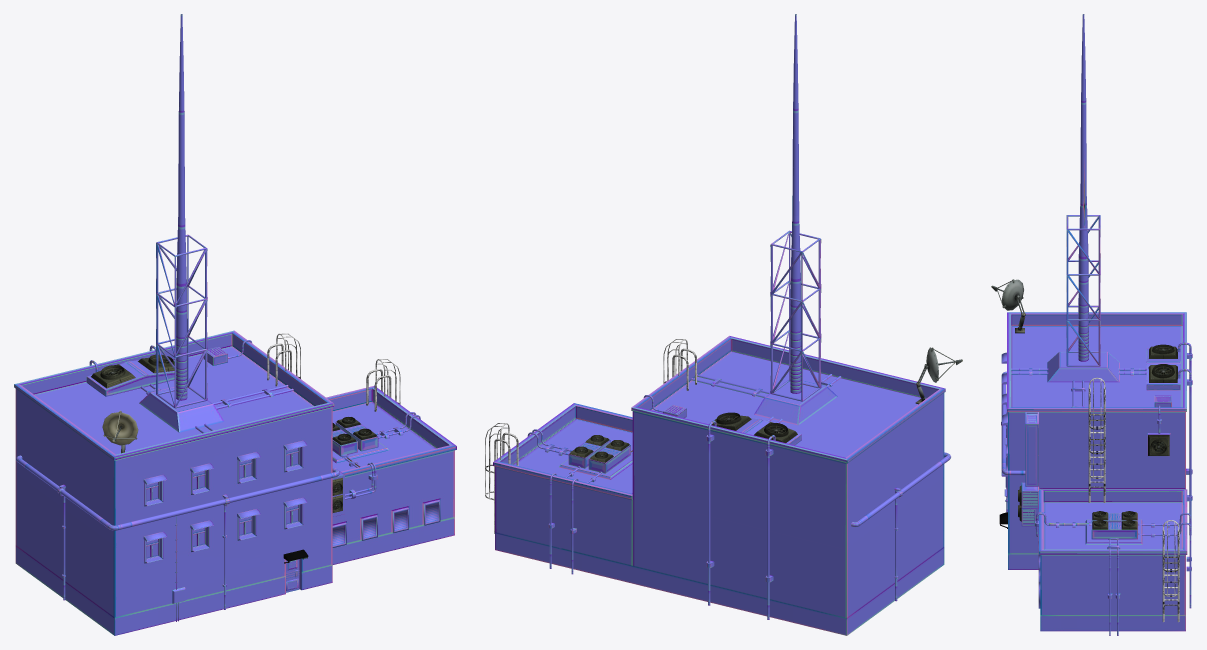
File: GhettoBuilding.obj
3 renders of one model, left to right at view 1: azimuth 30°, elevation 25°; view 2: azimuth 150°, elevation 25°; view 3: azimuth 270°, elevation 25°, orthographic. The views are drawn at different scales.
Parts seen in each view (by area): view 1: Plane; view 2: Plane; view 3: Plane.
Boxes of the visible parts, x1=… form: Plane: x1=14, y1=14, x2=456, y2=635; Plane: x1=485, y1=14, x2=962, y2=635; Plane: x1=991, y1=14, x2=1192, y2=635.
Size of the model in its own units: 24.78 by 34.8 by 12.44.
Materials: 14 (14 with a texture image).
